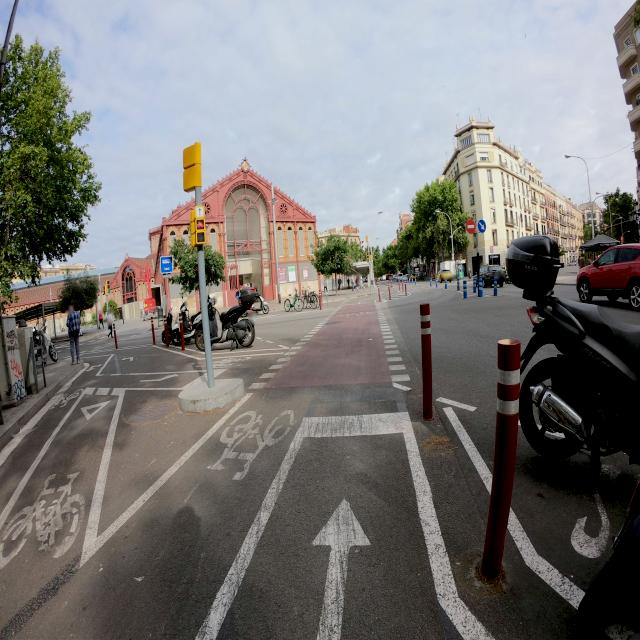bike: (502, 234, 640, 478), (193, 299, 255, 351), (33, 330, 59, 364), (238, 288, 270, 314), (283, 287, 304, 313), (302, 286, 320, 309)
car: (575, 242, 640, 312), (478, 264, 505, 288)
